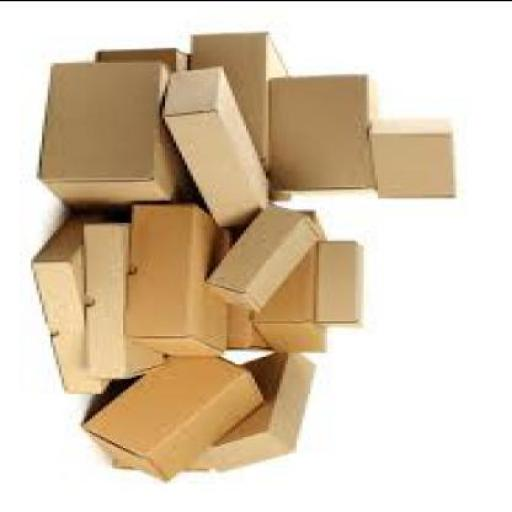cardboard: (84, 356, 268, 482), (42, 64, 187, 214), (188, 32, 300, 203), (160, 67, 272, 230), (92, 48, 198, 198), (36, 212, 118, 394), (129, 205, 227, 357), (204, 352, 319, 471), (84, 225, 170, 382), (269, 74, 383, 192), (204, 208, 322, 310), (254, 210, 333, 356), (372, 120, 461, 200), (230, 227, 276, 350), (316, 242, 367, 328), (114, 446, 213, 472)
